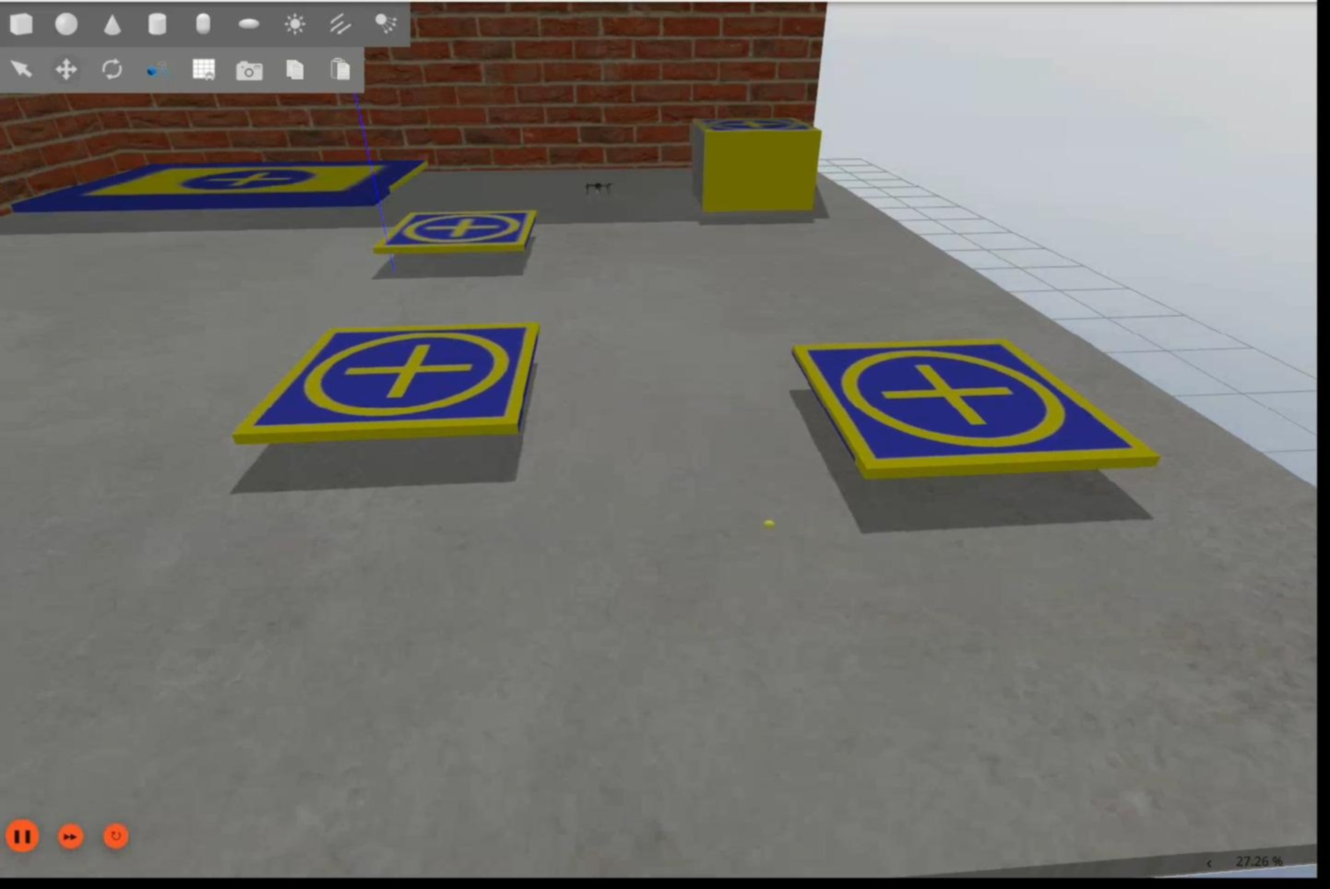large_base: (15, 165, 431, 212)
small_base: (790, 336, 1161, 486), (235, 325, 547, 439), (375, 207, 540, 260), (689, 113, 825, 141)
